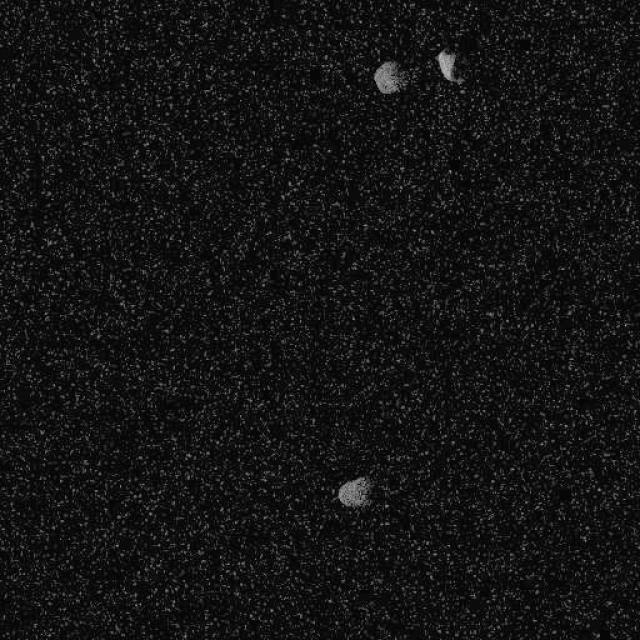D2: (336, 474, 374, 508), (372, 59, 407, 95), (434, 45, 464, 85)
